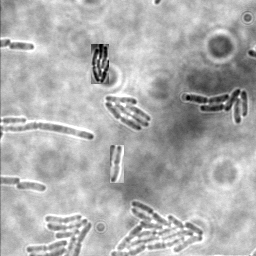Dividing: (1, 123, 95, 142), (110, 145, 124, 183), (8, 41, 35, 52)
Microcolony: (109, 200, 205, 255), (25, 212, 94, 255), (184, 89, 248, 126), (103, 96, 150, 132), (91, 44, 109, 84), (16, 182, 48, 193)
